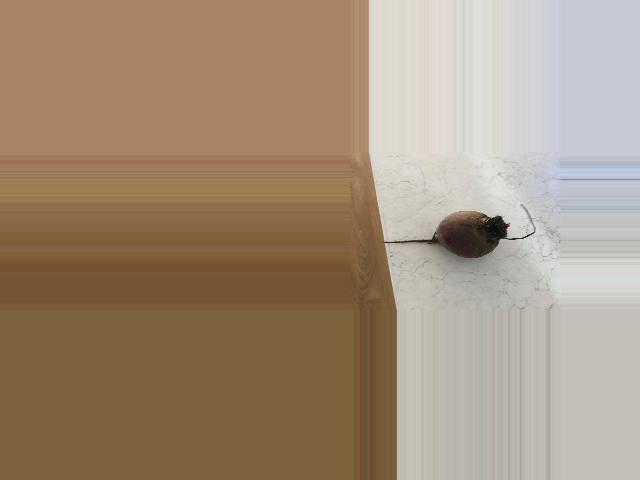beet: (380, 204, 534, 258)
